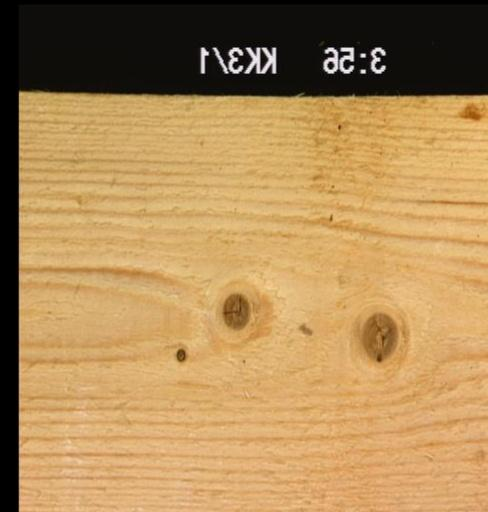dry_knot: (173, 346, 186, 361)
sound_knot: (357, 309, 400, 362), (220, 289, 251, 329)
